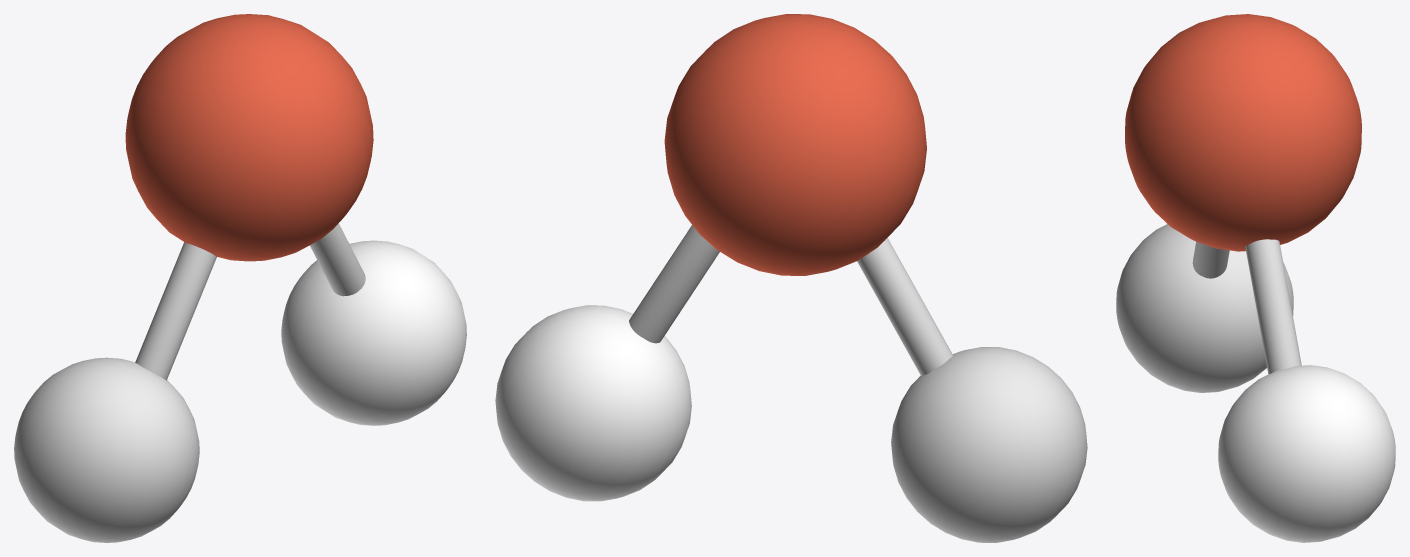
3 views of the same model, side by side, from view 1: azimuth 30°, elevation 25°; view 2: azimuth 150°, elevation 25°; view 3: azimuth 270°, elevation 25° (orthographic). The views are drawn at different scales.
Parts seen in each view (by area): view 1: Sphere.004, Sphere, Sphere.002, Cylinder, Cylinder.001; view 2: Sphere.004, Sphere, Sphere.002, Cylinder, Cylinder.001; view 3: Sphere.004, Sphere.002, Sphere, Cylinder.001, Cylinder.
Boxes of the visible parts, bbox=[...] form: Sphere.004: bbox=[125, 14, 373, 261]; Sphere: bbox=[14, 357, 199, 542]; Sphere.002: bbox=[281, 240, 466, 425]; Cylinder: bbox=[135, 242, 216, 380]; Cylinder.001: bbox=[310, 223, 365, 296]; Sphere.004: bbox=[664, 14, 926, 275]; Sphere: bbox=[891, 347, 1087, 542]; Sphere.002: bbox=[495, 305, 691, 501]; Cylinder: bbox=[857, 238, 952, 375]; Cylinder.001: bbox=[629, 225, 719, 343]; Sphere.004: bbox=[1125, 14, 1361, 251]; Sphere.002: bbox=[1218, 365, 1395, 542]; Sphere: bbox=[1116, 224, 1293, 392]; Cylinder.001: bbox=[1245, 239, 1301, 374]; Cylinder: bbox=[1192, 241, 1229, 278].
Size of the model in its own units: 5.98 by 5.4 by 3.14.
